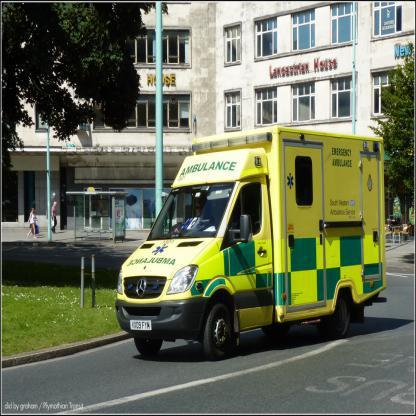Ambulance - v1 Ambulance last generate: (113, 122, 387, 363)
